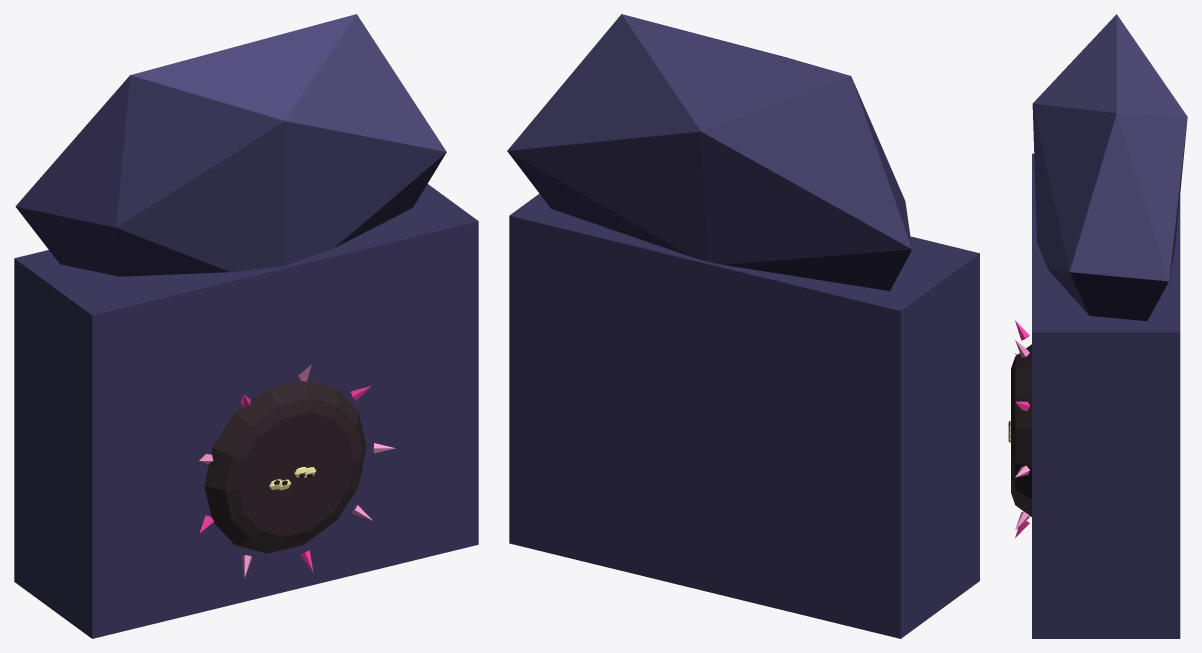
The model's file is Mine_PestBurrow_Wall.fbx.
3 renders of one model, left to right at view 1: azimuth 30°, elevation 25°; view 2: azimuth 150°, elevation 25°; view 3: azimuth 270°, elevation 25°, orthographic. The views are drawn at different scales.
Visible parts, largest first — view 1: Mine_PestBurrow_Wall_Body; view 2: Mine_PestBurrow_Wall_Body; view 3: Mine_PestBurrow_Wall_Body.
Part boxes in pixels (bbox=[...]): Mine_PestBurrow_Wall_Body: bbox=[14, 14, 478, 638]; Mine_PestBurrow_Wall_Body: bbox=[507, 14, 979, 638]; Mine_PestBurrow_Wall_Body: bbox=[1011, 14, 1187, 638].
Size of the model in its own units: 2.07 by 2.56 by 0.8483.
